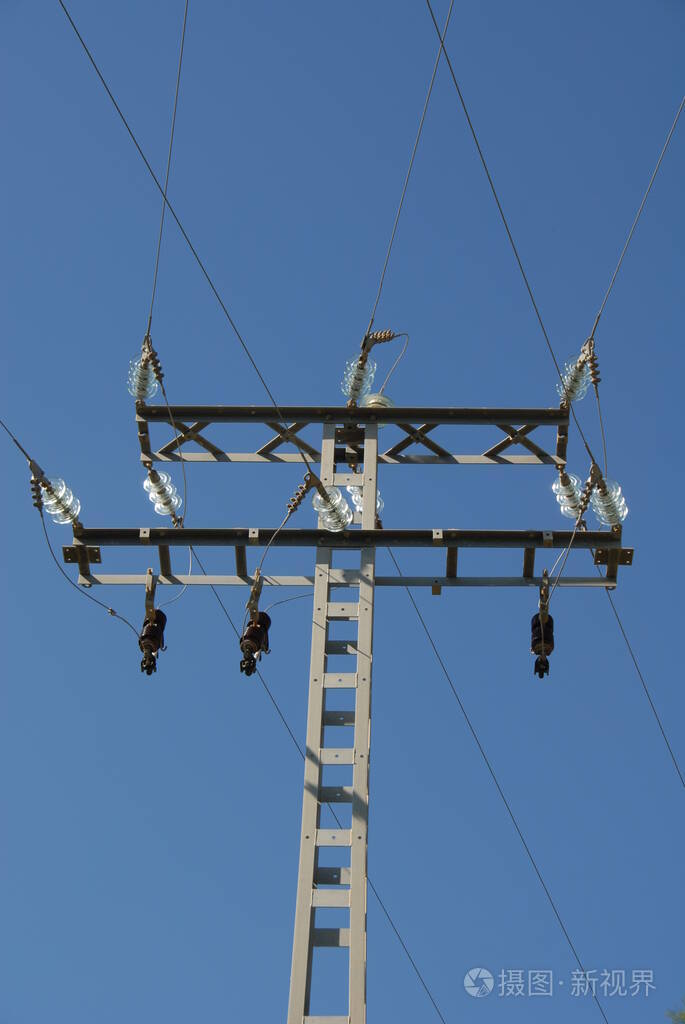insulator: (34, 477, 79, 526), (141, 472, 187, 517), (589, 483, 635, 522), (553, 359, 594, 401), (339, 356, 375, 401), (550, 473, 589, 514), (124, 357, 158, 404)
